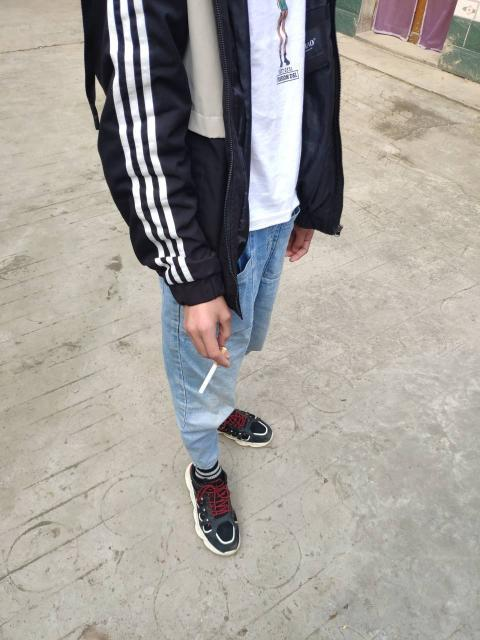Smoking: (179, 337, 251, 403)
